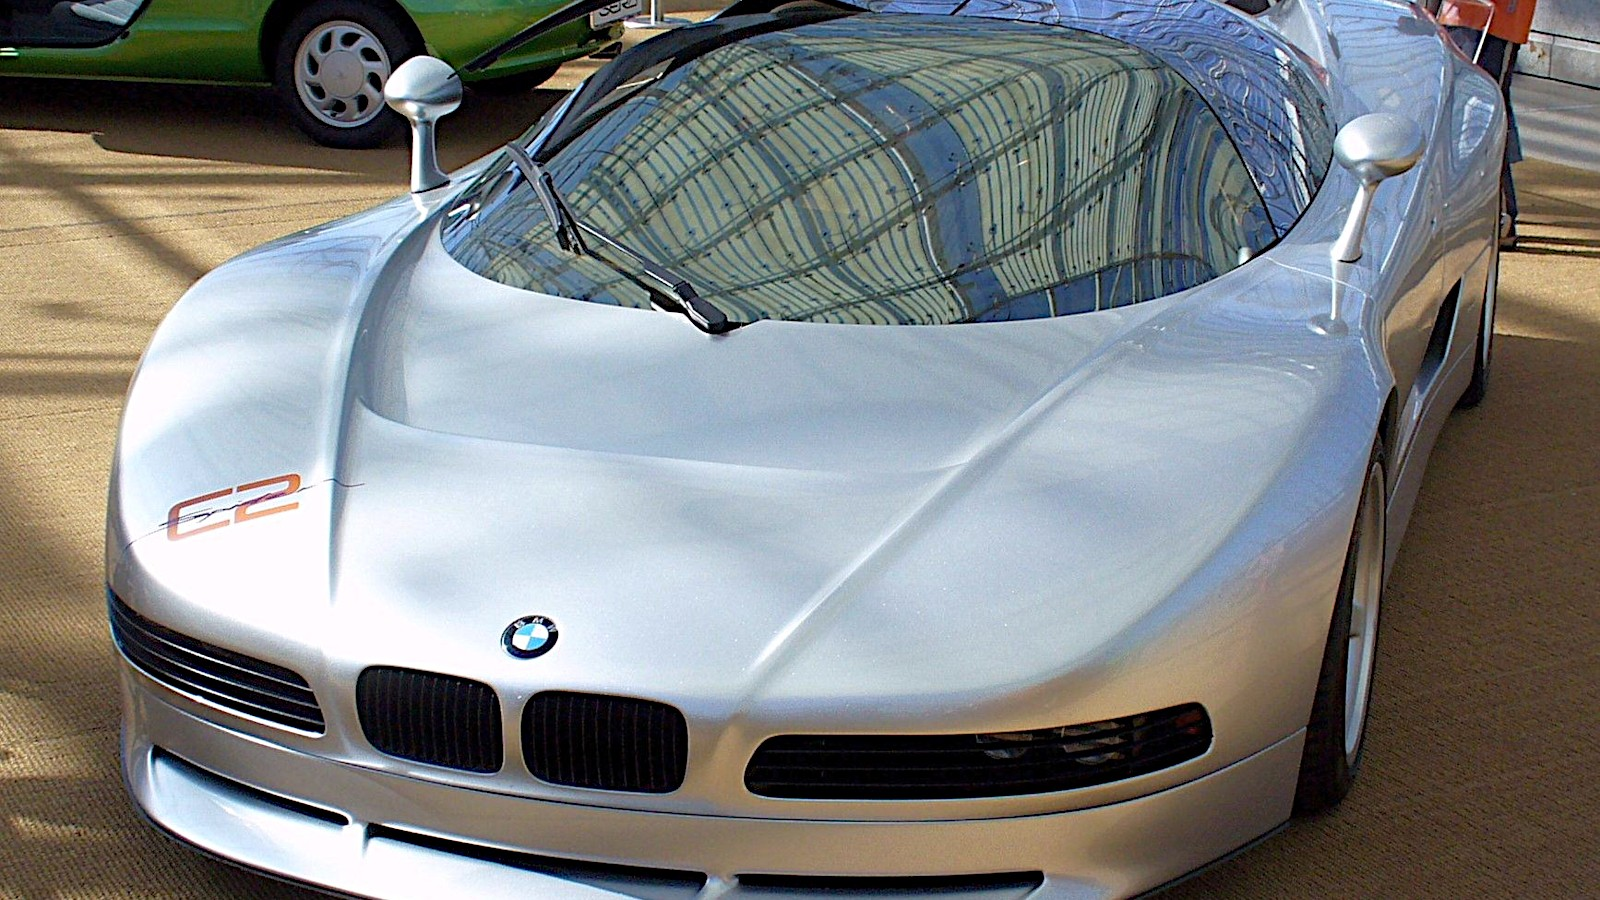headlight: (719, 716, 1238, 803), (100, 582, 347, 738)
wheel: (1319, 422, 1404, 793), (274, 14, 421, 149), (1451, 273, 1509, 424)
